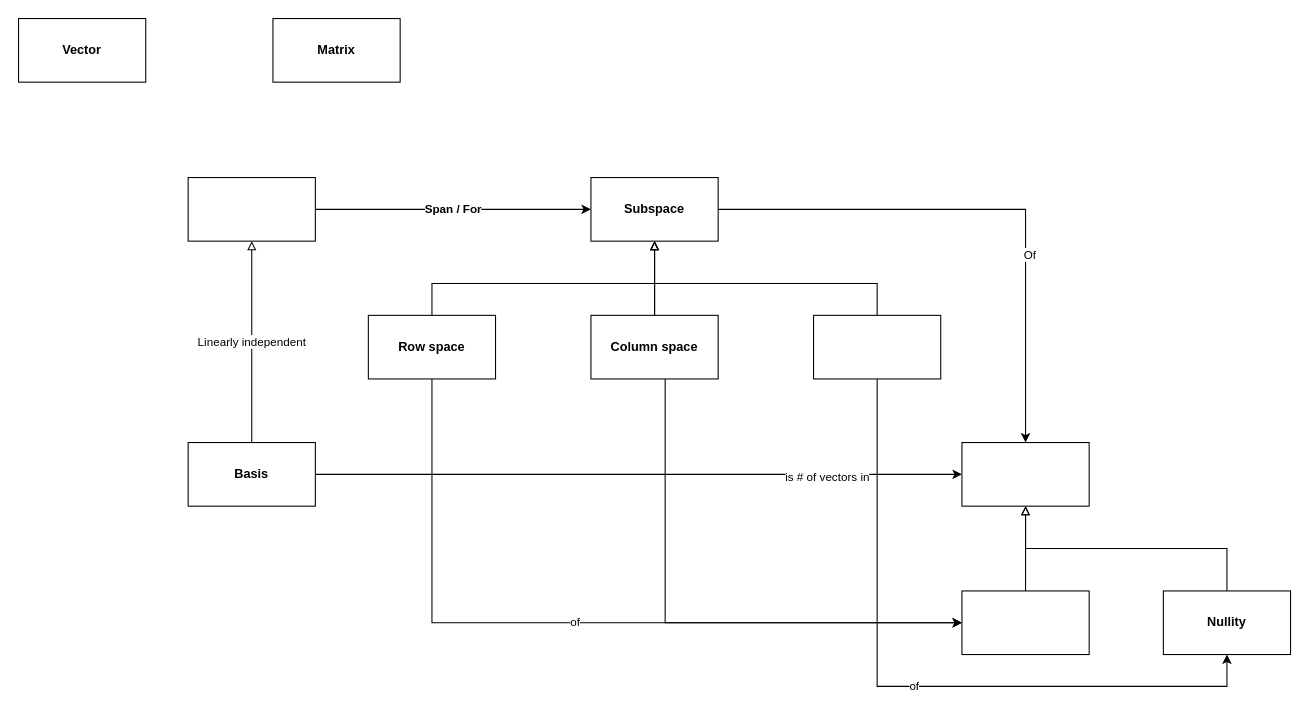
Image size: 1309x713. Some labels were removed from this diagram. Here are the shapes that lost their labels. From the top down, the box of each, then its label:
(187, 176, 315, 241): Vectors
(812, 314, 941, 379): Null space
(961, 441, 1089, 506): Dimension
(961, 590, 1089, 655): Rank
